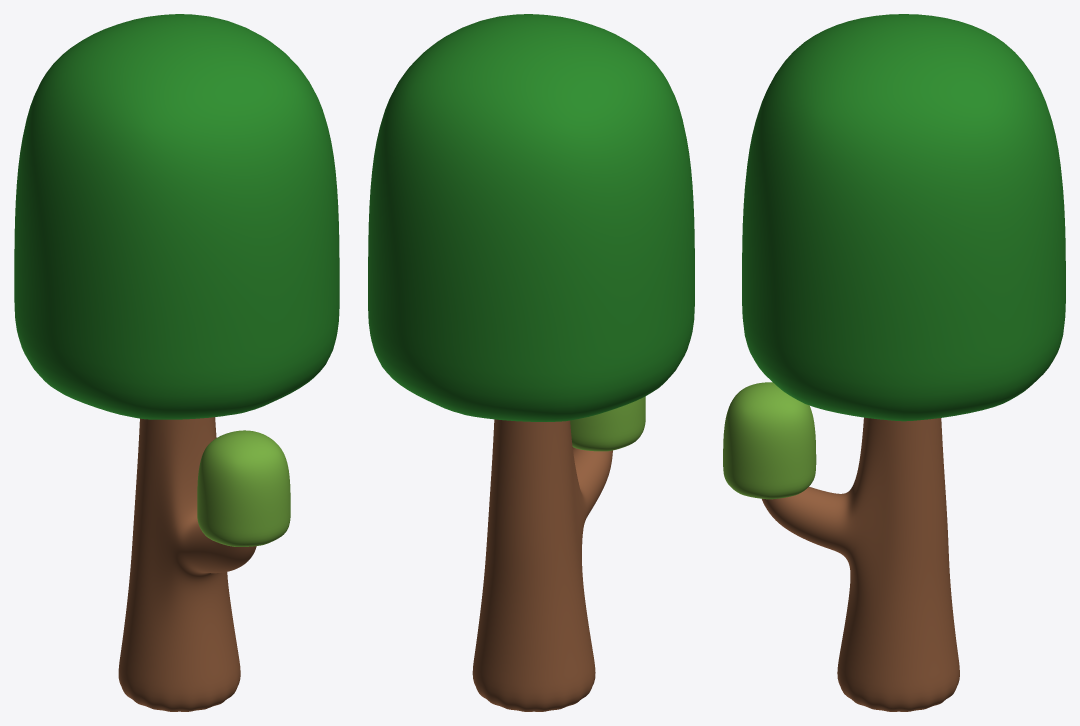
The model's file is tree.fbx.
3 views of the same model, side by side, from view 1: azimuth 30°, elevation 25°; view 2: azimuth 150°, elevation 25°; view 3: azimuth 270°, elevation 25° (orthographic).
Parts seen in each view (by area): view 1: Tree; view 2: Tree; view 3: Tree.
Boxes of the visible parts, <box> form: Tree: <box>14,14,339,711</box>; Tree: <box>368,14,694,711</box>; Tree: <box>723,14,1065,711</box>.
Size of the model in its own units: 828 by 1877 by 876.
